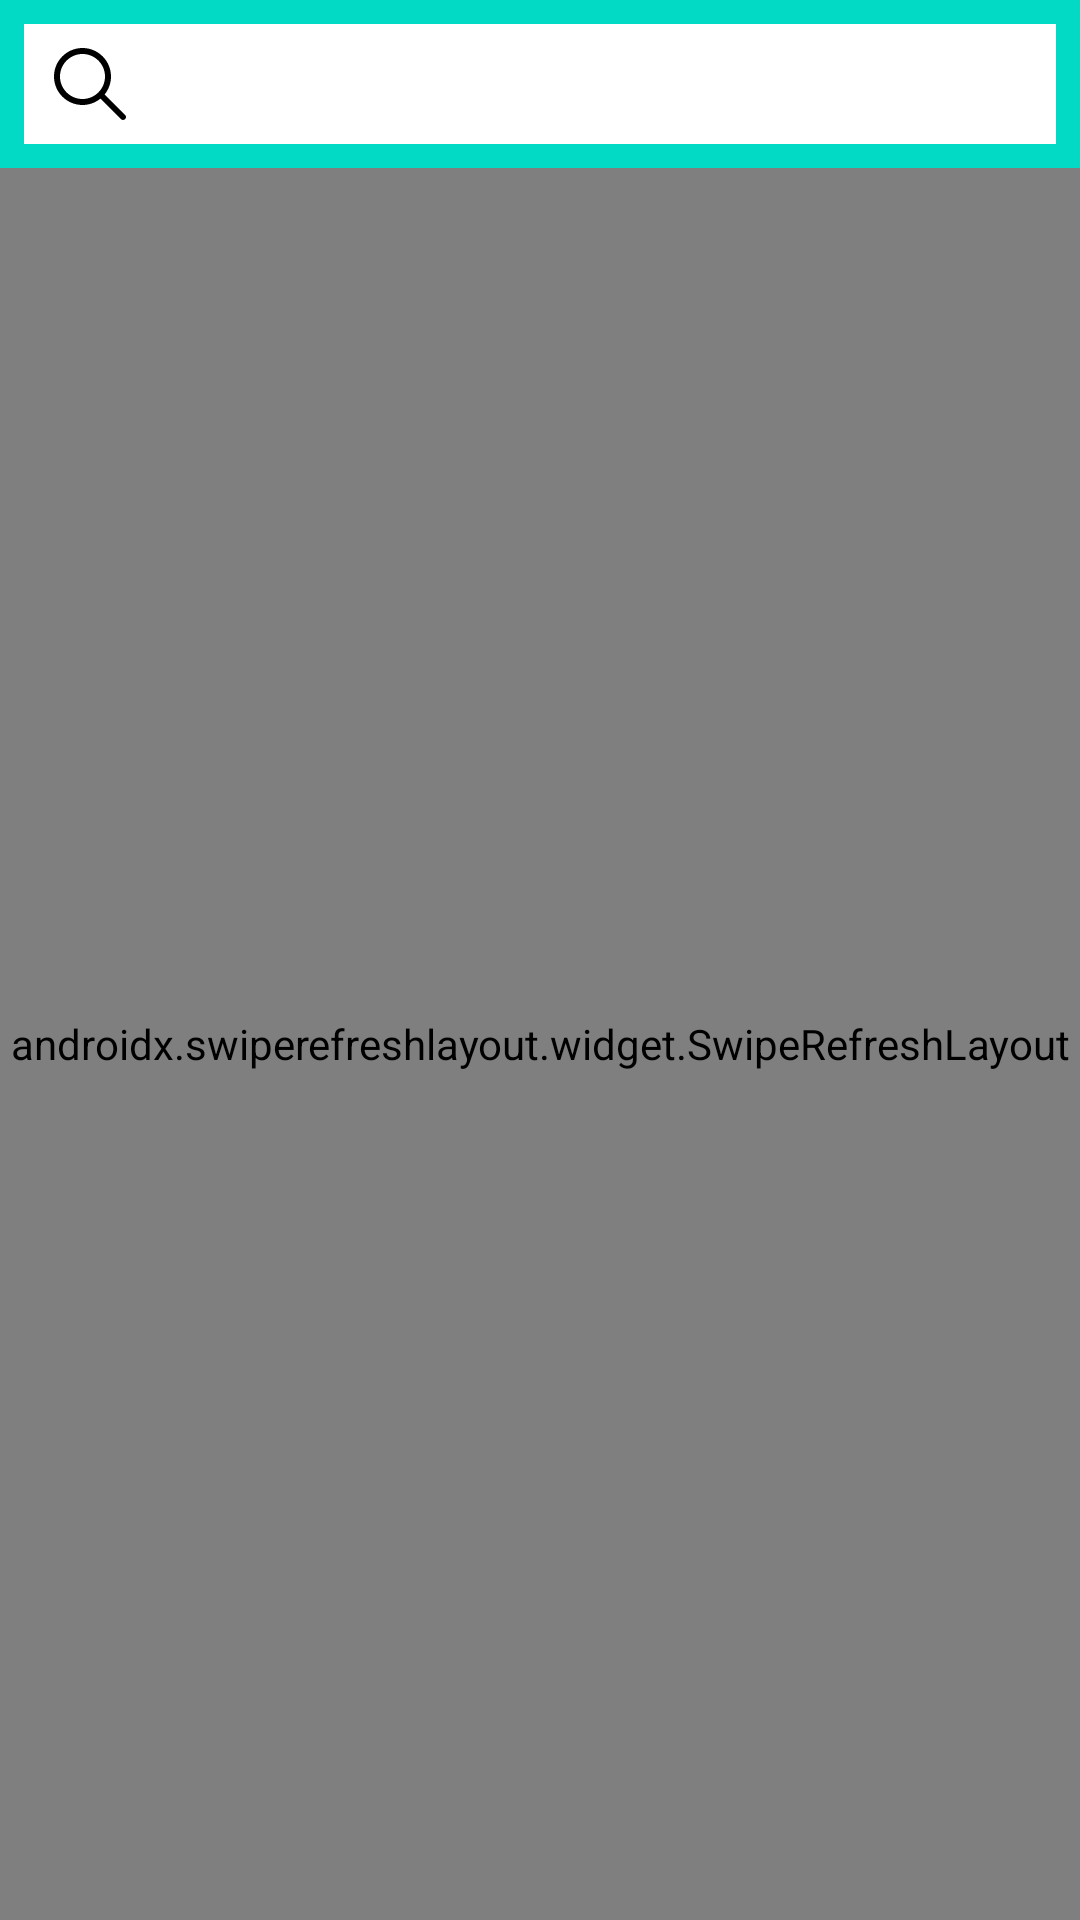

Screen size 1080w x 1920h. Icon name, then its center in pixels as (x,y):
search: (90,84)
